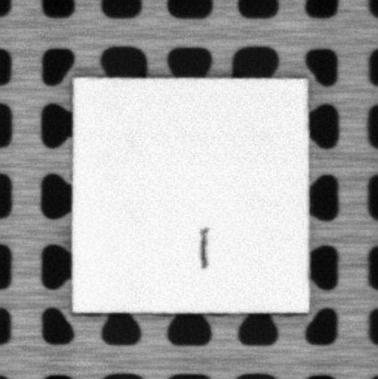DIE_INK: (198, 226, 209, 269)
